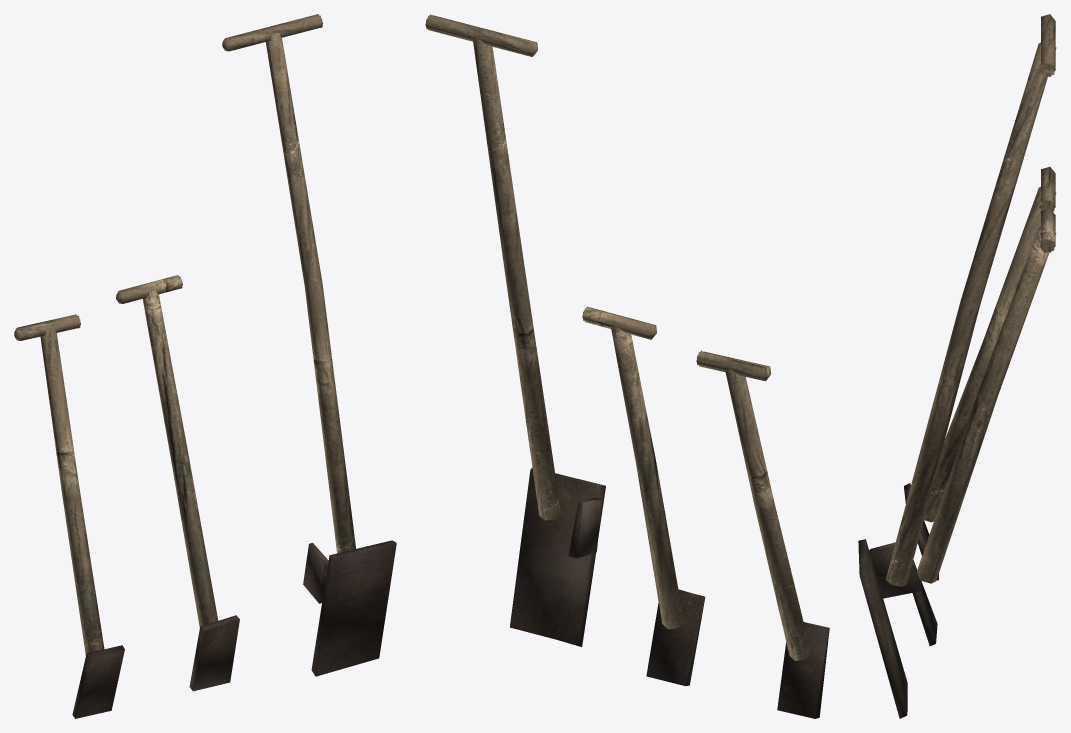
File: kit_lw_three_spades_p.glb
3 renders of one model, left to right at view 1: azimuth 30°, elevation 25°; view 2: azimuth 150°, elevation 25°; view 3: azimuth 270°, elevation 25°, orthographic. The views are drawn at different scales.
Parts seen in each view (by area): view 1: kit_lw_three_spades_p; view 2: kit_lw_three_spades_p; view 3: kit_lw_three_spades_p.
Part boxes in pixels (x1,y1,x2,y2): kit_lw_three_spades_p: (14,14,396,718); kit_lw_three_spades_p: (425,14,829,718); kit_lw_three_spades_p: (858,14,1056,718).
Bounding box in the file's own units: 0.7192 × 1.34 × 0.3634.
1 material, 1 textured.
